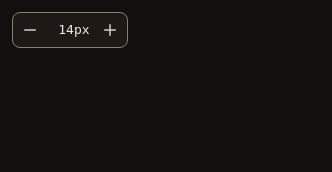
Test: the typed font size (G-179) › reads a pasted number whole and refuses one out of range
Replace the text in the field named "Terminal font size" with "200". click: (62, 30)
box: [50,13,74,47]
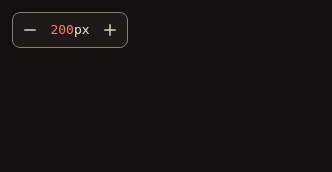
Press Enter in the field named "Terminal font size", box [50,13,74,47]
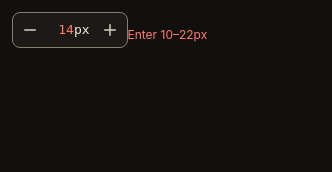
Now the field named "Terminal font size" holds "14", box [50,13,74,47]
